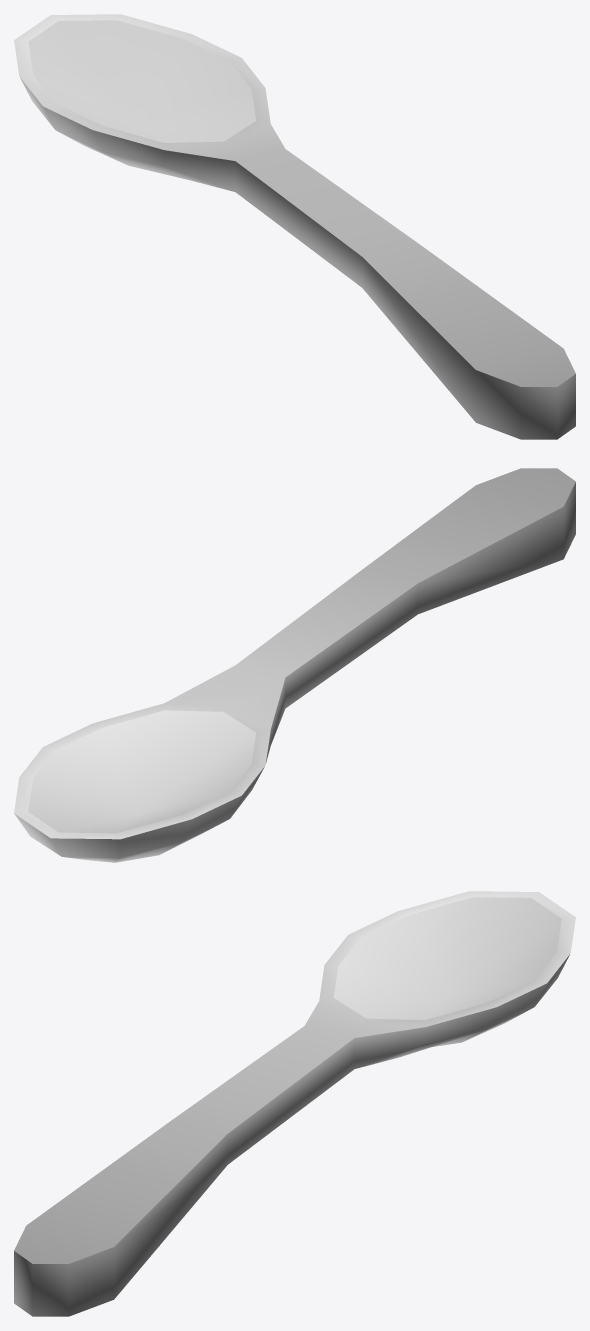
The model's file is Spoon.fbx.
The picture shows the model from 3 angles, top to bottom: view 1: azimuth 30°, elevation 25°; view 2: azimuth 150°, elevation 25°; view 3: azimuth 330°, elevation 25°; orthographic projection.
Visible parts, largest first — view 1: Cube; view 2: Cube; view 3: Cube.
Part boxes in pixels (x1,y1,x2,y2): Cube: [14, 14, 575, 439]; Cube: [14, 468, 575, 862]; Cube: [14, 891, 575, 1316].
Size of the model in its own units: 10.66 by 3.44 by 47.04.
Materials: 1 (1 with a texture image).
